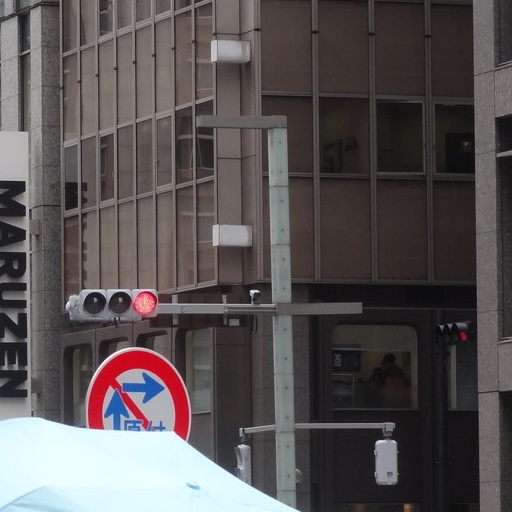Traffic_Signal_Red: (67, 279, 164, 321)
